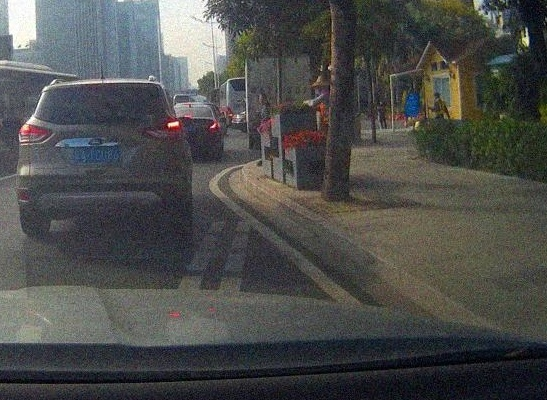R_light: (142, 118, 184, 142)
T_light: (19, 122, 53, 144), (92, 84, 112, 88)
day-right: (18, 81, 186, 233)
